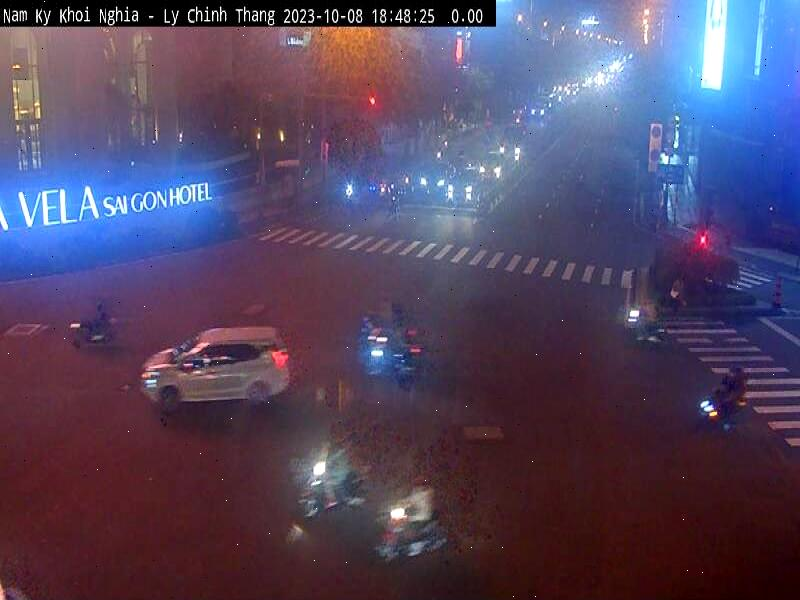car: (138, 324, 293, 416)
